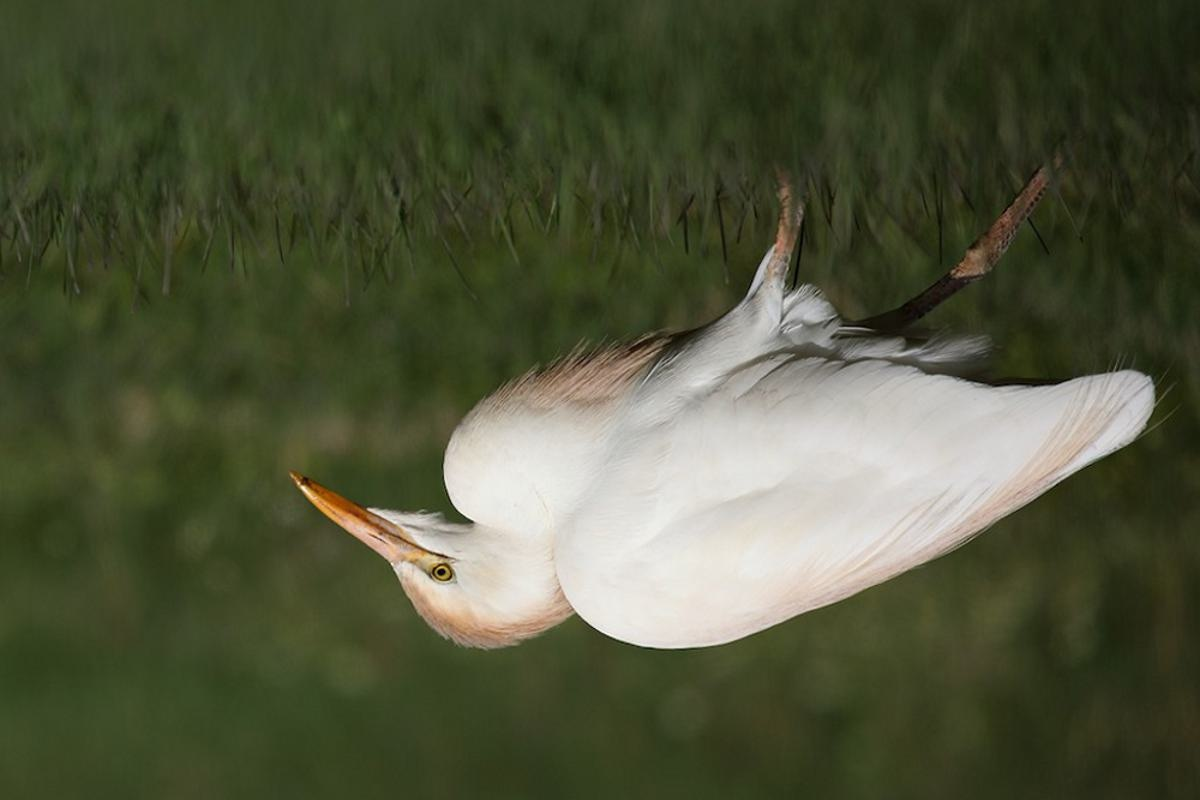egret: (280, 164, 1170, 679)
